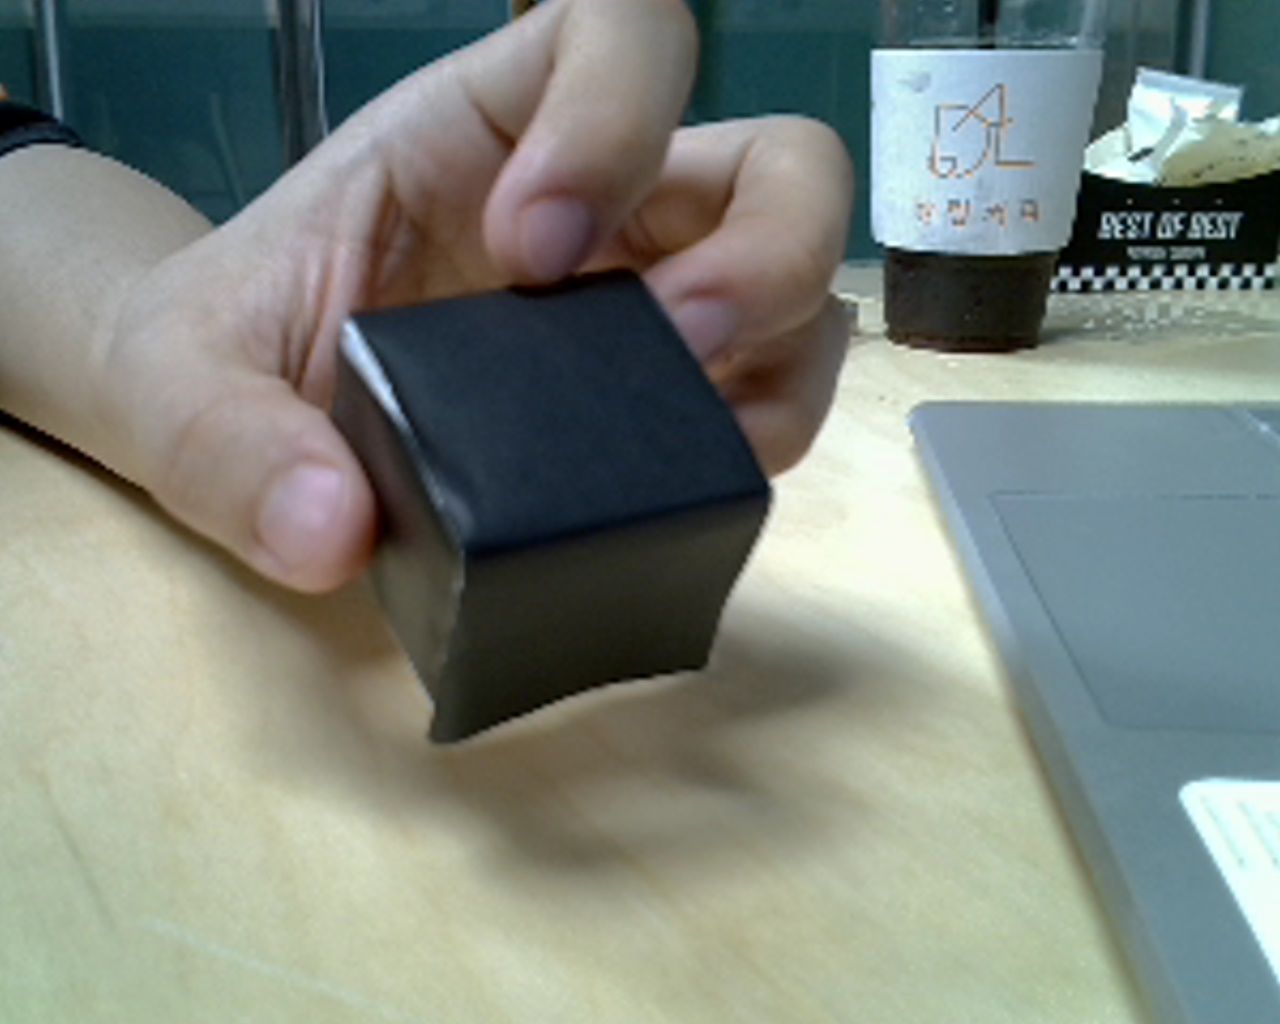blackbox: (282, 211, 813, 796)
